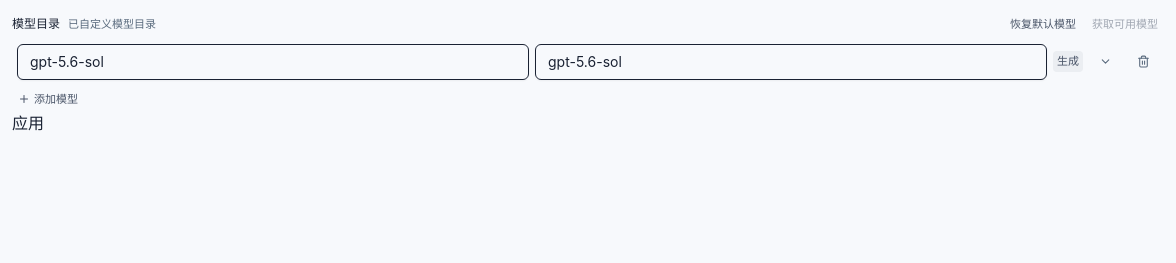
ModelCatalogEditor 目录区 › 输入类型沿用既有条目（不是硬编码 text）：条目声明 image → 图片勾上且锁住
The image size is (1176, 263).
Click the button named "模型选项 1": click(1105, 62) [1089,46,1121,78]
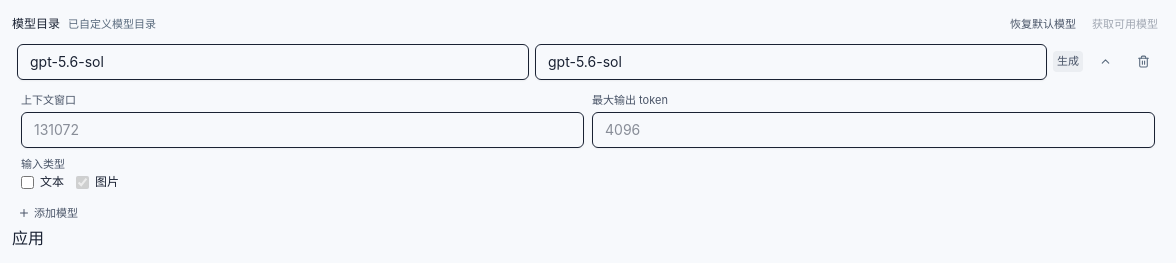
Result: the checkbox named "图片 1" is checked at [76,176,89,188]
Result: the checkbox named "文本 1" is not checked at [21,176,34,188]
Result: the checkbox named "图片 1" is disabled at [76,176,89,188]
